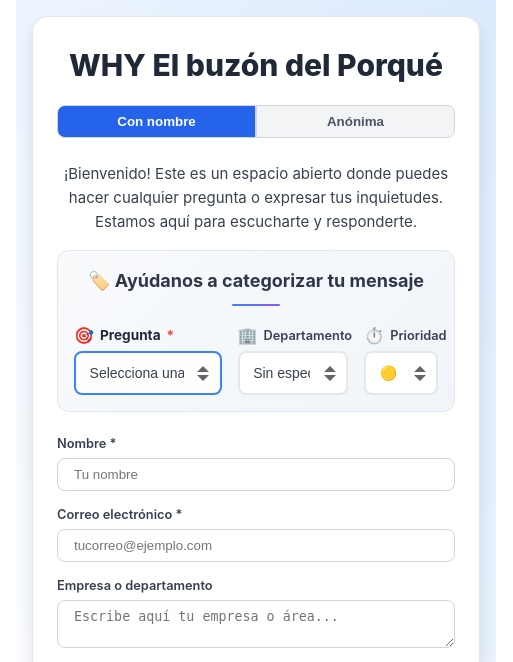
it: InicioPlataformaWhy › Validaciones de campos › Validación de categoría › debe validar categoría no seleccionada
Step 1. Select "Selecciona una categoría" in the 1st dropdown → (148, 373), box [74,351,222,395]
Step 2. Leave the 1st dropdown, box [74,351,222,395]
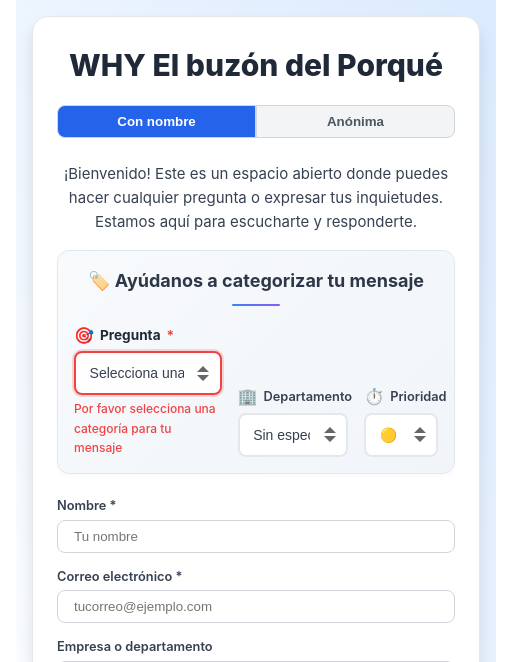
Expected: the text "Por favor selecciona una categoría para tu mensaje" is shown, [74,399,222,457]
